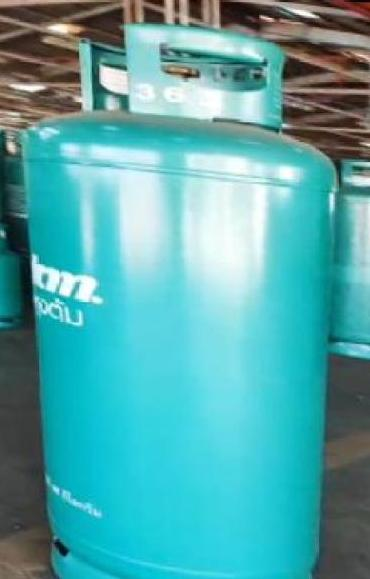cylinder: (1, 1, 370, 579)
